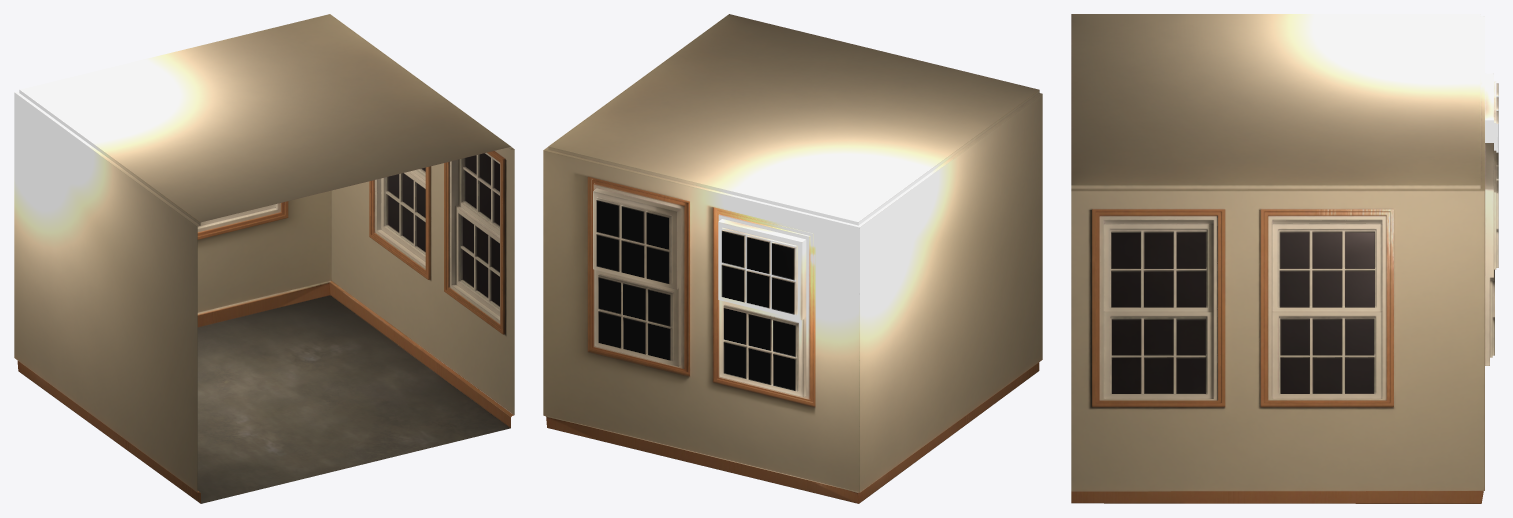
3 views of the same model, side by side, from view 1: azimuth 30°, elevation 25°; view 2: azimuth 150°, elevation 25°; view 3: azimuth 270°, elevation 25° (orthographic). The views are drawn at different scales.
Visible parts, largest first — view 1: Cube; view 2: Cube; view 3: Cube.
Boxes of the visible parts, <box> form: Cube: <box>14,14,514,503</box>; Cube: <box>543,14,1042,503</box>; Cube: <box>1071,14,1498,503</box>.
Size of the model in its own units: 2.07 by 1.7 by 2.07.
2 materials, 2 textured.
